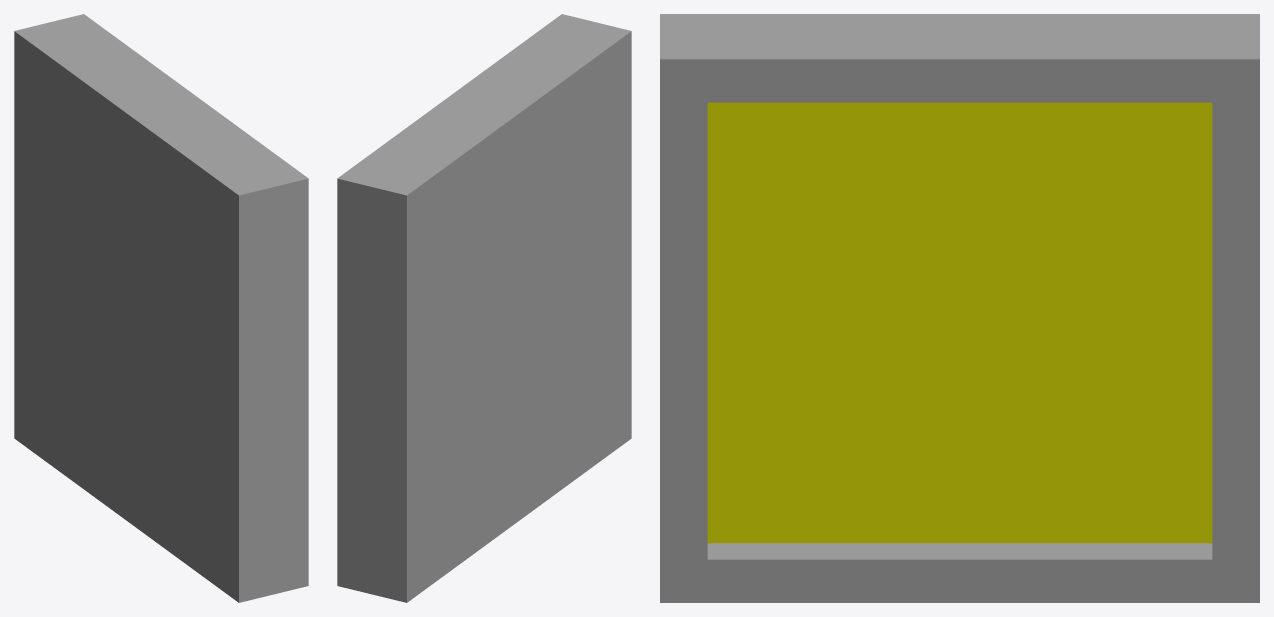
Rendered from frame.fbx.
The picture shows the model from 3 angles, left to right: view 1: azimuth 30°, elevation 25°; view 2: azimuth 150°, elevation 25°; view 3: azimuth 270°, elevation 25°; orthographic projection. The views are drawn at different scales.
Parts seen in each view (by area): view 1: pCube12; view 2: pCube12; view 3: pCube12.
Part boxes in pixels (x1,y1,x2,y2): pCube12: (14,14,308,602); pCube12: (337,14,631,602); pCube12: (660,14,1259,602).
Size of the model in its own units: 0.5178 by 2.89 by 2.89.
